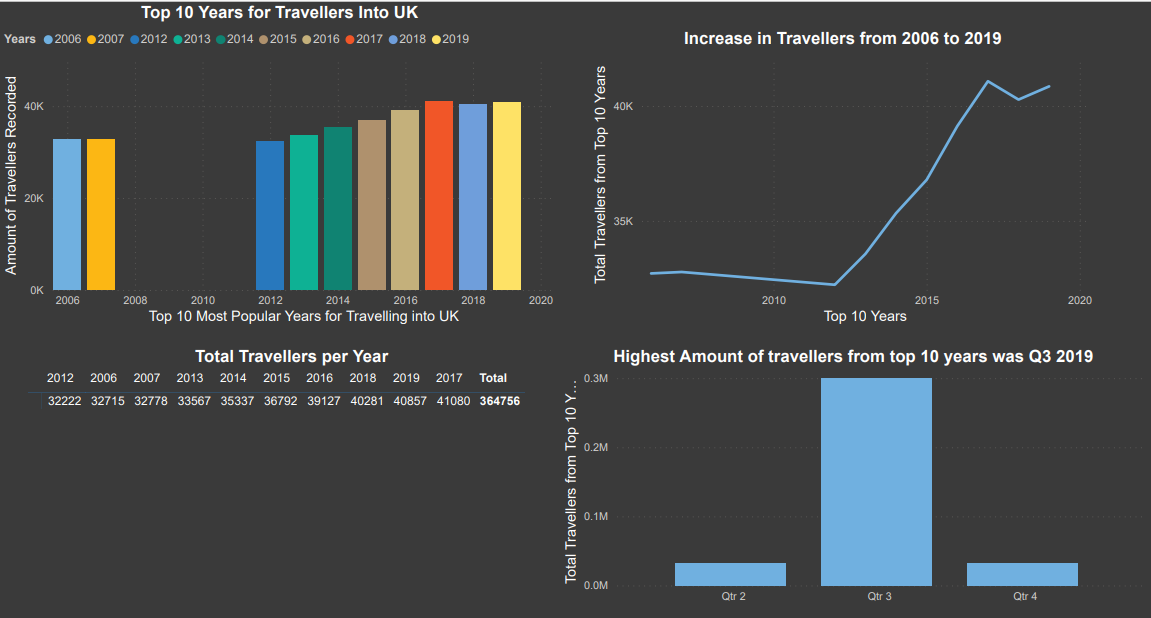

The dashboard page shown, as its layout file describes it:
{"tool":"powerbi","page":{"name":"Highest","canvas":[1280,720],"ordinal":0},"visuals":[{"type":"columnChart","title":"Top 10 Years for Travellers Into UK","fields":{"Category":["NSA Data - Top 10.OS Visits Dates (Year)"],"Series":["NSA Data - Top 10.OS Visits Dates (Year)"],"Y":["Sum(NSA Data - Top 10.Yearly Total - OS Visits to UK)"]},"box":[0,80.6,621.5,332.6],"z":0},{"type":"pivotTable","title":"Total Travellers per Year","fields":{"Values":["Sum(NSA Data - Top 10.Yearly Total - OS Visits to UK)"],"Columns":["NSA Data - Top 10.OS Visits Dates (Year)"]},"box":[13.4,421.6,608.1,82.3],"z":1000},{"type":"lineChart","title":"Increase in Travellers from 2006 to 2019","fields":{"Y":["Sum(NSA Data - Top 10.Yearly Total - OS Visits to UK)"],"Category":["NSA Data - Top 10.OS Visits Dates (Year)"]},"box":[640,80.6,635,332.6],"z":2000},{"type":"columnChart","title":"Highest Amount of travellers from top 10 years was Q3 2019","fields":{"Category":["NSA Data - Top 10.OS Visit Dates (Month).Variation.Date Hierarchy.Year","NSA Data - Top 10.OS Visit Dates (Month).Variation.Date Hierarchy.Quarter","NSA Data - Top 10.OS Visit Dates (Month).Variation.Date Hierarchy.Month","NSA Data - Top 10.OS Visit Dates (Month).Variation.Date Hierarchy.Day"],"Y":["Sum(NSA Data - Top 10.Yearly Total - OS Visits to UK)"]},"box":[621.5,413.2,653.4,307.4],"z":3000},{"type":"textbox","box":[0,21.8,1280,35.3],"z":3001}]}

Visuals, with their boxes on the page's 1280x720 design canvas (x1, y1, x2, y2). These are canvas units, not pixel positions in the 1151x618 screenshot, which may show the page scaled, cropped or inside an application window:
"Top 10 Years for Travellers Into UK" columnChart: region(0, 81, 622, 413)
"Total Travellers per Year" pivotTable: region(13, 422, 622, 504)
"Increase in Travellers from 2006 to 2019" lineChart: region(640, 81, 1275, 413)
"Highest Amount of travellers from top 10 years was Q3 2019" columnChart: region(622, 413, 1275, 721)
textbox: region(0, 22, 1280, 57)
